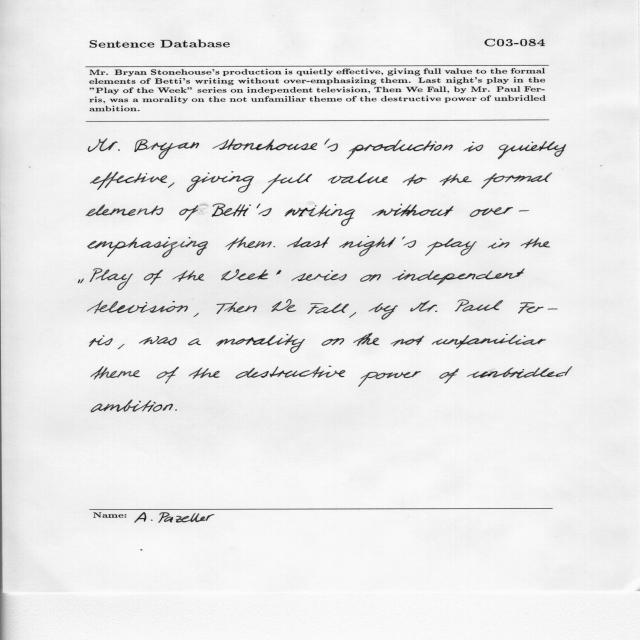word: (88, 237, 208, 257), (392, 268, 525, 285), (347, 140, 453, 159), (432, 334, 546, 349), (216, 334, 305, 353), (212, 139, 338, 152), (285, 204, 355, 226), (339, 236, 416, 256), (236, 366, 346, 379), (87, 300, 188, 314), (187, 172, 254, 193), (91, 172, 168, 190), (467, 366, 572, 379), (134, 139, 199, 159), (498, 141, 566, 159), (481, 172, 552, 189), (372, 204, 454, 217), (91, 399, 173, 412), (358, 371, 421, 387), (262, 174, 312, 194), (90, 268, 133, 290), (425, 238, 477, 256), (87, 205, 164, 217), (212, 203, 272, 217), (91, 366, 140, 380), (328, 173, 388, 184), (455, 299, 503, 312), (225, 237, 272, 250), (292, 271, 347, 282), (470, 207, 529, 217), (221, 269, 268, 281), (369, 303, 398, 320), (216, 302, 257, 314), (287, 237, 330, 248), (307, 303, 349, 314), (518, 303, 558, 314), (88, 139, 120, 152), (440, 174, 472, 186), (173, 270, 205, 282), (189, 367, 220, 379), (156, 367, 179, 383), (139, 336, 177, 345), (391, 336, 425, 346), (353, 333, 379, 346), (271, 299, 296, 312), (411, 300, 438, 312), (521, 238, 550, 249), (179, 205, 198, 221), (439, 369, 459, 384), (403, 174, 427, 186), (89, 335, 113, 347), (144, 270, 163, 285), (488, 239, 510, 249), (464, 142, 484, 152), (322, 338, 344, 346), (360, 274, 381, 282), (188, 339, 201, 346), (349, 312, 356, 318), (168, 182, 174, 188), (118, 344, 125, 349), (78, 279, 84, 284), (277, 270, 282, 275), (193, 313, 199, 317), (175, 409, 177, 411), (274, 246, 276, 247)
